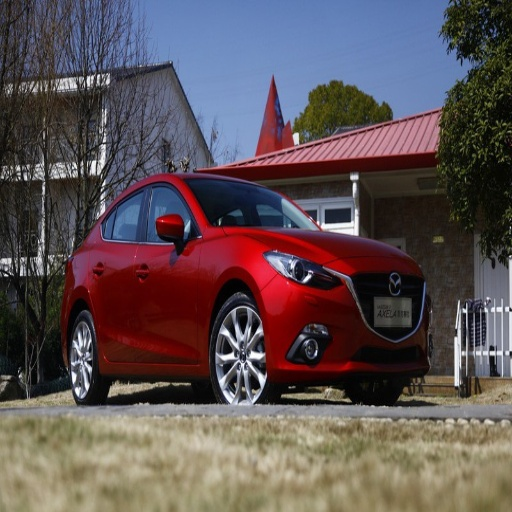back_left_light: (91, 185, 147, 362)
back_right_light: (264, 258, 424, 369)
front_bumper: (194, 178, 300, 227)
front_left_light: (135, 181, 201, 362)
front_right_door: (265, 251, 345, 290)
front_right_light: (242, 224, 360, 261)
right_mirror: (389, 260, 420, 296)
trunk: (211, 293, 272, 404), (67, 309, 107, 404), (371, 375, 407, 402)
